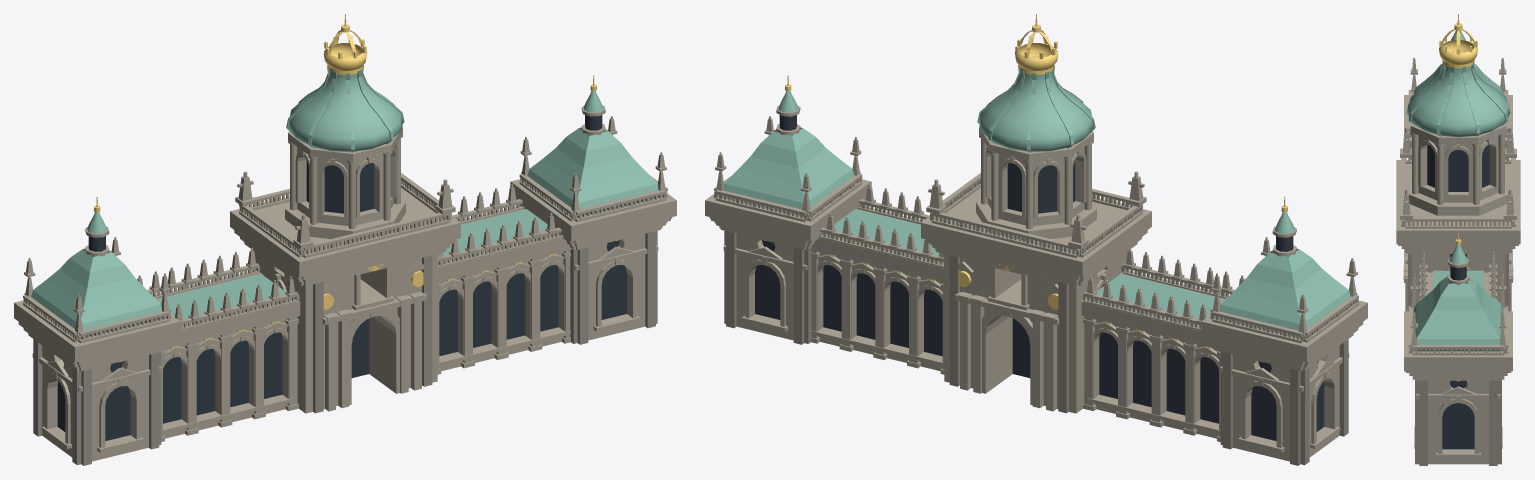
Rendered from zwinger_kronentor.glb.
The picture shows the model from 3 angles, left to right: view 1: azimuth 30°, elevation 25°; view 2: azimuth 150°, elevation 25°; view 3: azimuth 270°, elevation 25°; orthographic projection. The views are drawn at different scales.
Visible parts, largest first — view 1: zwinger_kronentor; view 2: zwinger_kronentor; view 3: zwinger_kronentor.
Part boxes in pixels (x1,y1,x2,y2): zwinger_kronentor: (14, 14, 676, 465); zwinger_kronentor: (705, 14, 1367, 465); zwinger_kronentor: (1396, 14, 1520, 465).
Bounding box in the file's own units: 73 × 42.2 × 14.6.
